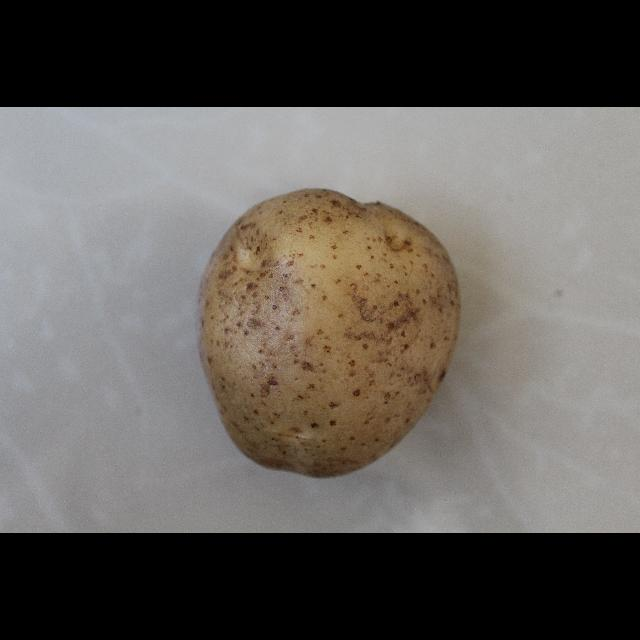Diseased-fungal potato: (192, 182, 458, 478)
